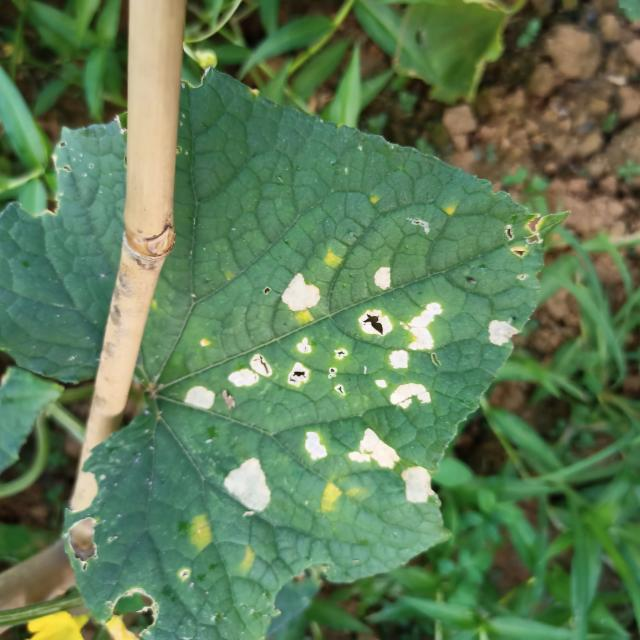disease_cucumber: (225, 257, 448, 418), (218, 453, 273, 518), (346, 422, 400, 470), (172, 376, 218, 416), (400, 465, 442, 505), (180, 509, 218, 551), (317, 479, 356, 519), (298, 421, 330, 464), (487, 310, 521, 348), (319, 243, 348, 271), (236, 545, 259, 575), (292, 308, 320, 330)
